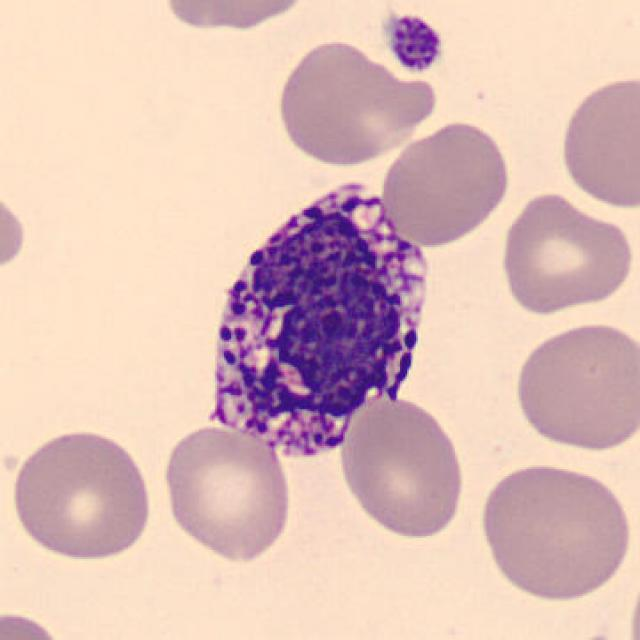Basophil: (192, 166, 444, 470)
Platelets: (381, 9, 446, 76)
RBC: (473, 458, 635, 605), (270, 36, 441, 170), (7, 423, 158, 563), (156, 420, 297, 566), (336, 392, 469, 542), (494, 189, 636, 317), (377, 116, 514, 248), (508, 317, 636, 455), (555, 70, 638, 212), (158, 0, 318, 33), (0, 185, 30, 280), (0, 606, 69, 640), (626, 546, 640, 640)
